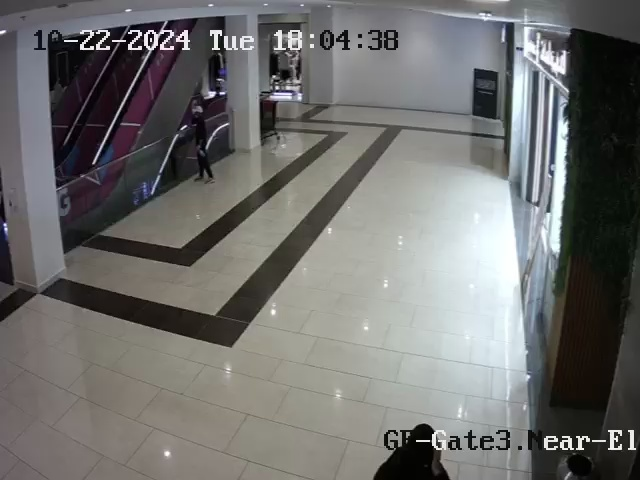female: (372, 423, 451, 480)
male: (191, 104, 215, 184)
